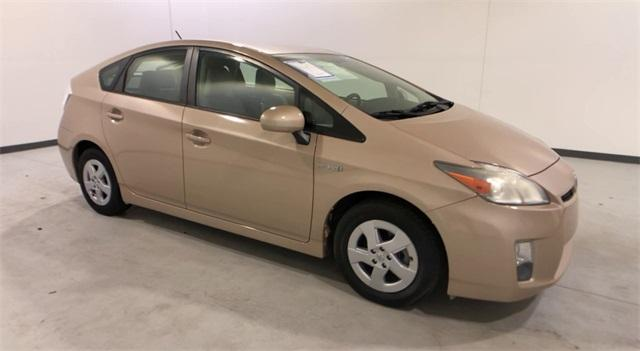Toyota Prius: (57, 39, 579, 308)
